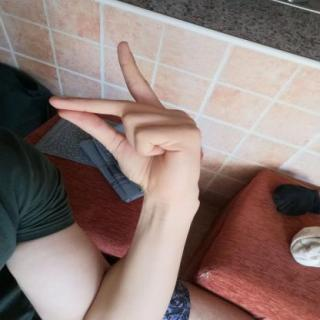TAA: (37, 32, 212, 203)
